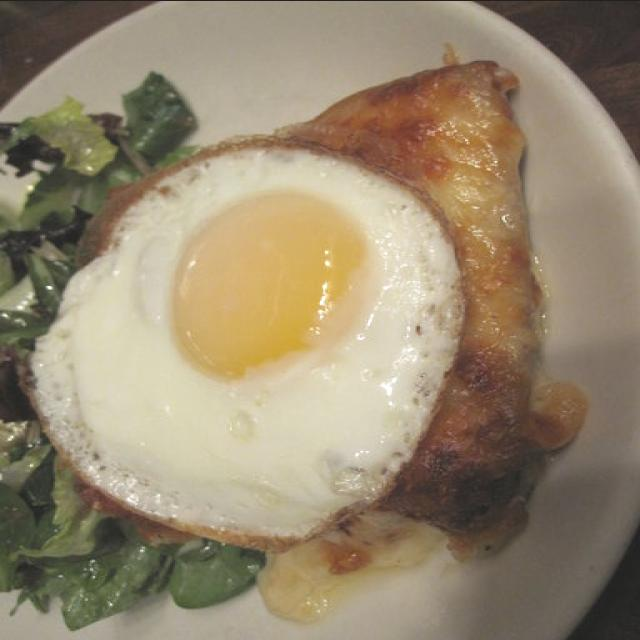telur ceplok: (30, 141, 467, 551)
